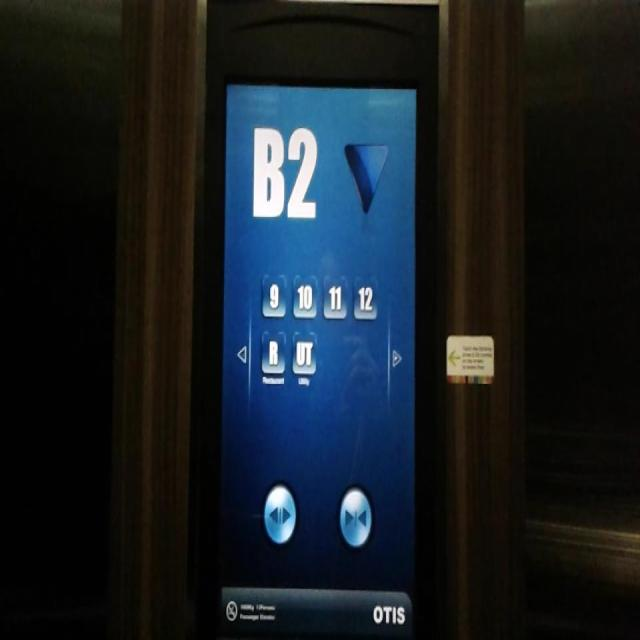10: (290, 272, 317, 322)
11: (321, 272, 348, 322)
12: (350, 270, 377, 320)
9: (259, 269, 287, 319)
R: (259, 326, 286, 376)
UT: (289, 327, 317, 375)
close: (336, 485, 372, 550)
open: (260, 482, 296, 546)
